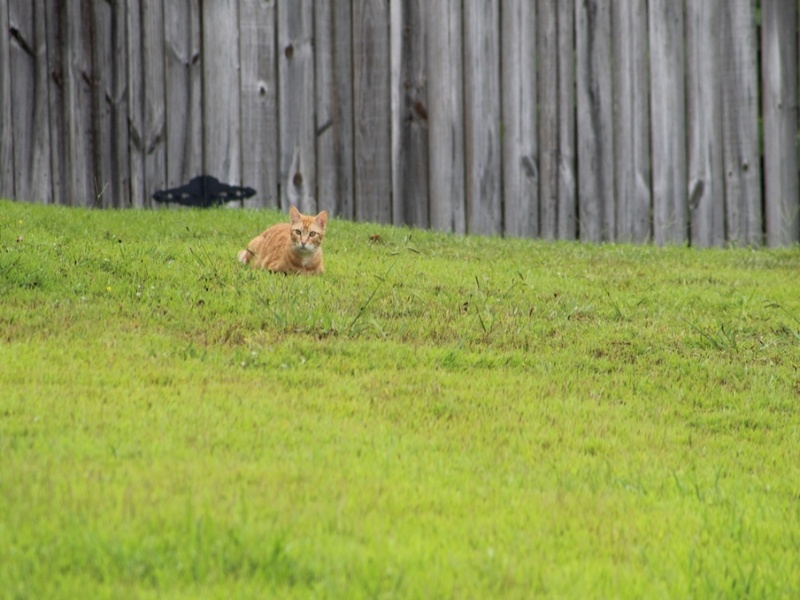cat: (234, 208, 331, 281)
